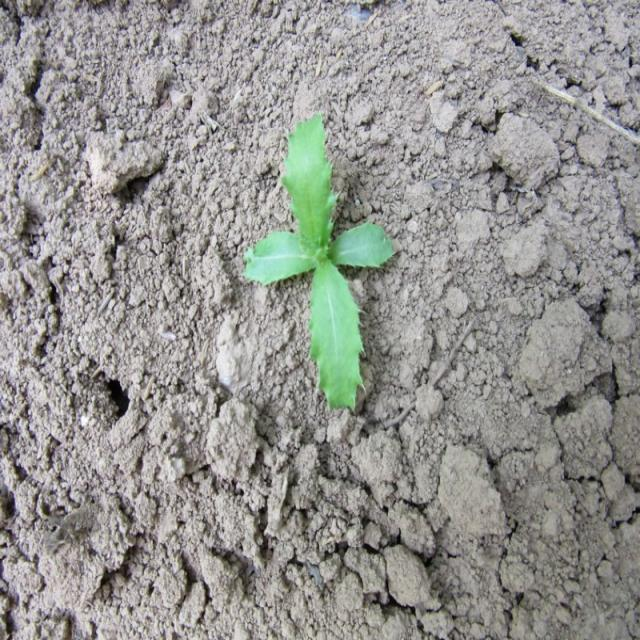field_thistle: (228, 121, 426, 449)
